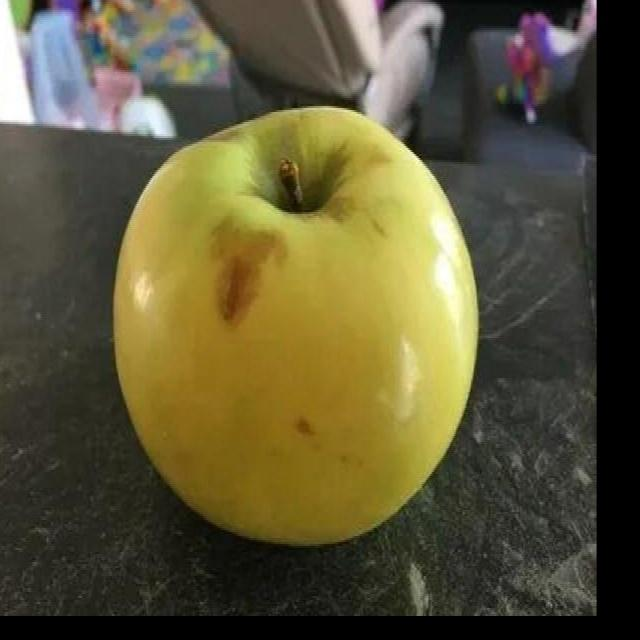green apple: (111, 102, 480, 547)
